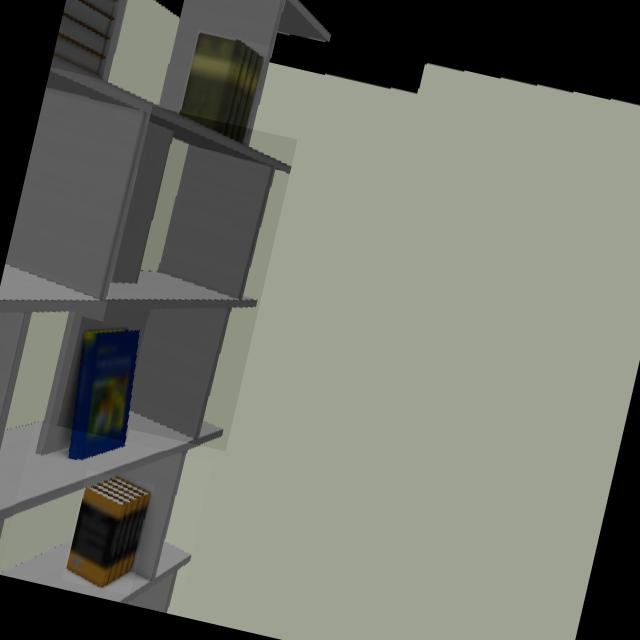book: (178, 34, 267, 147), (65, 329, 140, 462), (66, 476, 151, 588), (52, 0, 118, 78)
bookshelf: (0, 0, 329, 533), (109, 107, 290, 444)
shelf: (0, 452, 191, 612)
